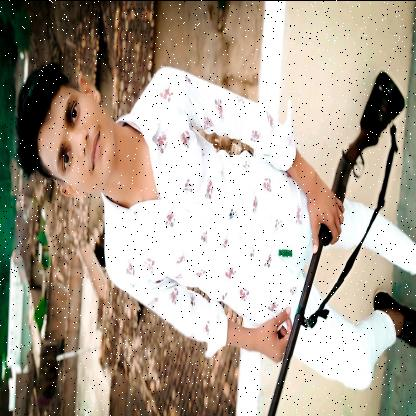rifle: (266, 65, 408, 416)
